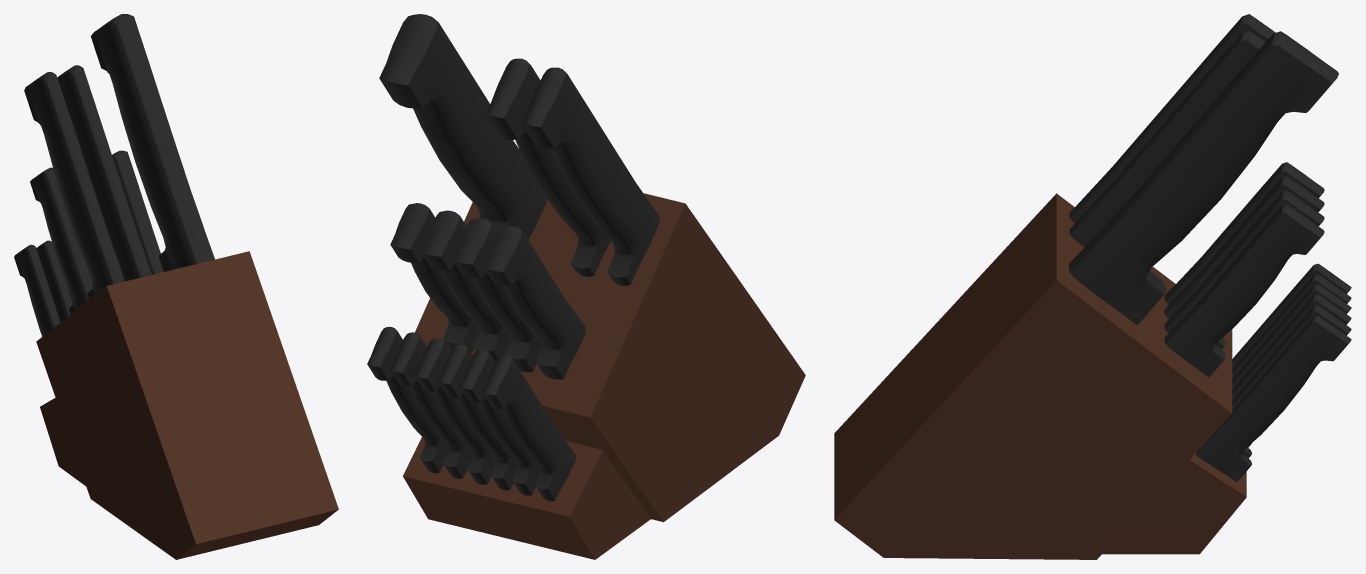
The model's file is KitchenKnifeBlock.fbx.
3 views of the same model, side by side, from view 1: azimuth 30°, elevation 25°; view 2: azimuth 150°, elevation 25°; view 3: azimuth 270°, elevation 25° (orthographic). The views are drawn at different scales.
Parts seen in each view (by area): view 1: polySurface20; view 2: polySurface20; view 3: polySurface20.
Boxes of the visible parts, x1,y1,x2,y2 form: polySurface20: (14,14,338,559); polySurface20: (367,14,805,559); polySurface20: (834,14,1351,559).
Bounding box in the file's own units: 17.58 × 47.59 × 44.3.
